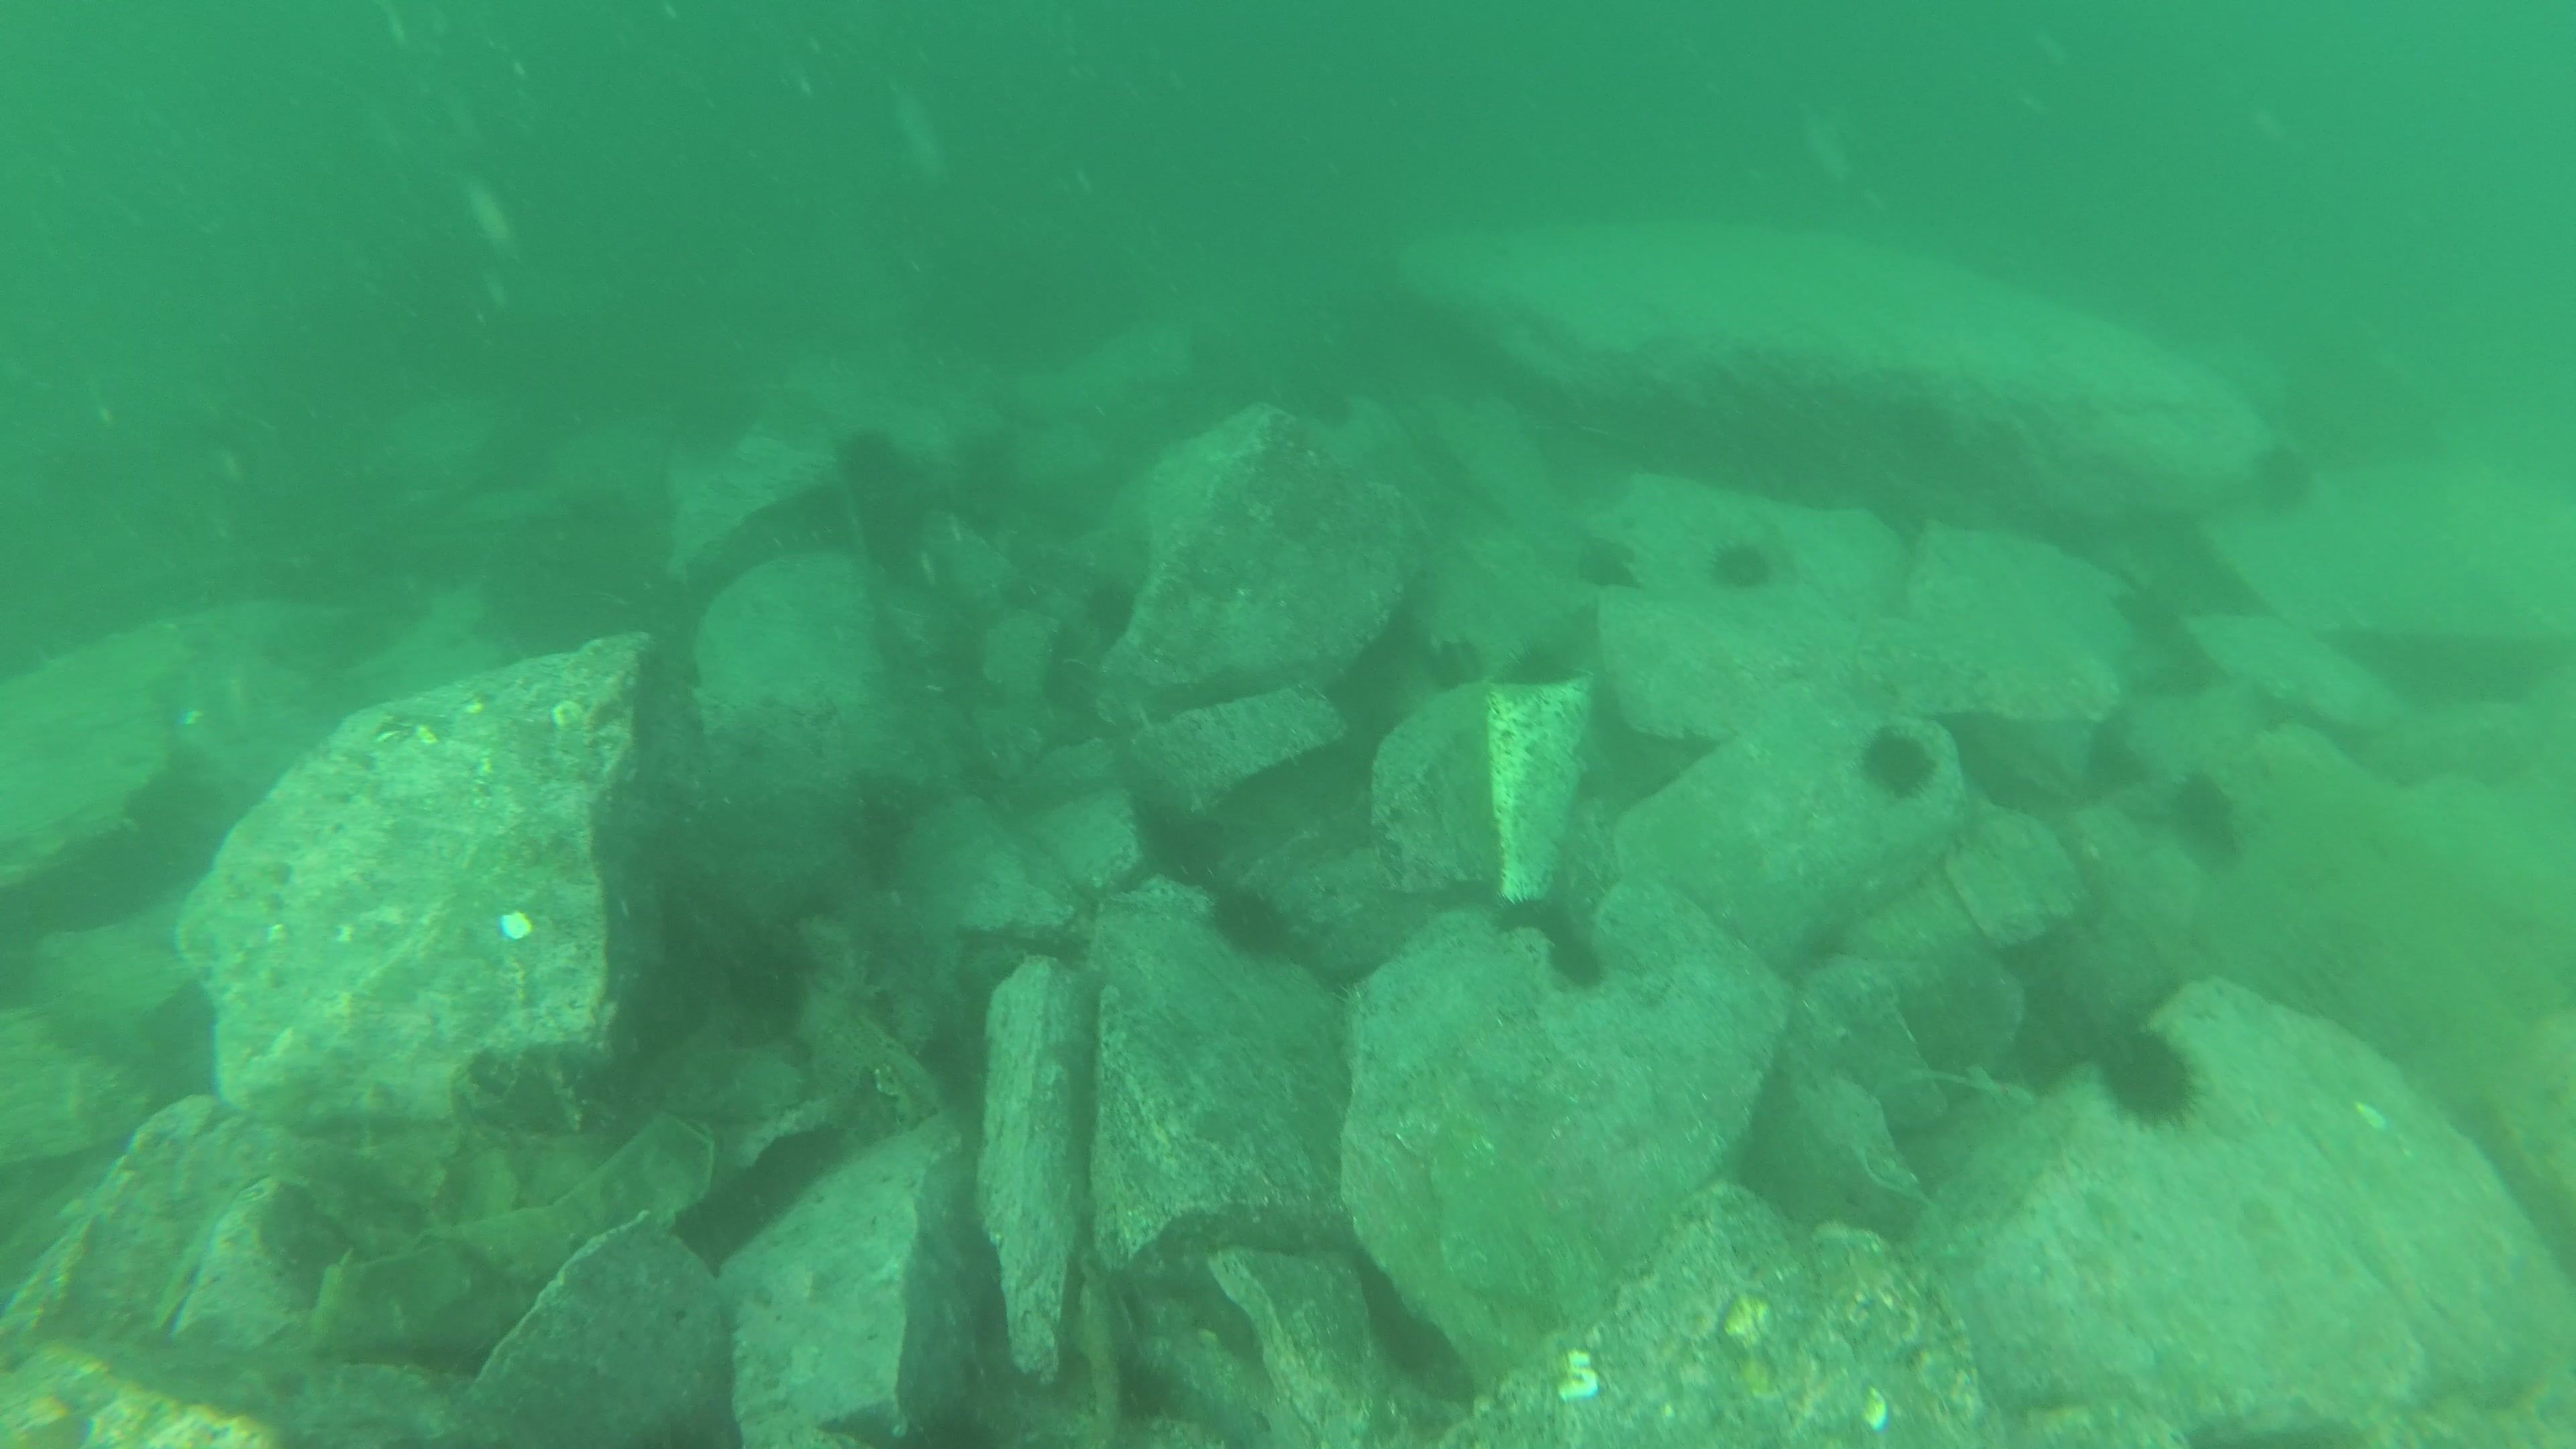echinus: (2102, 1030, 2206, 1131), (1858, 725, 1944, 805), (1217, 892, 1300, 968), (839, 428, 906, 495), (1716, 538, 1780, 596)
